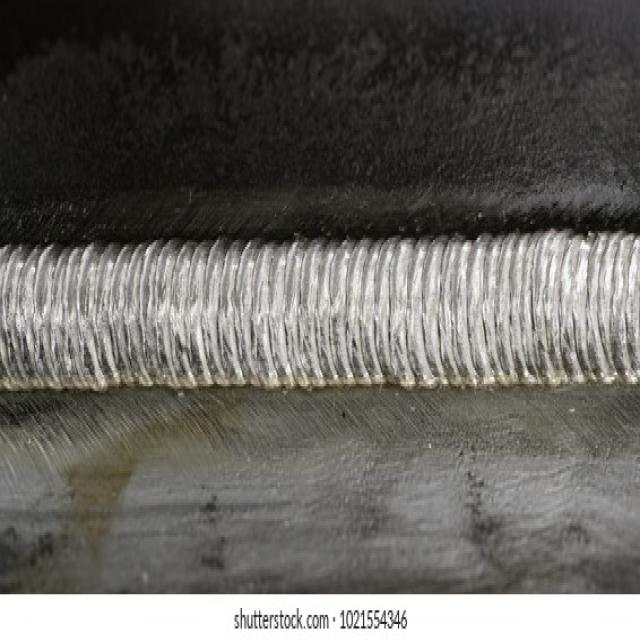Dry Waste: (0, 226, 634, 390)
